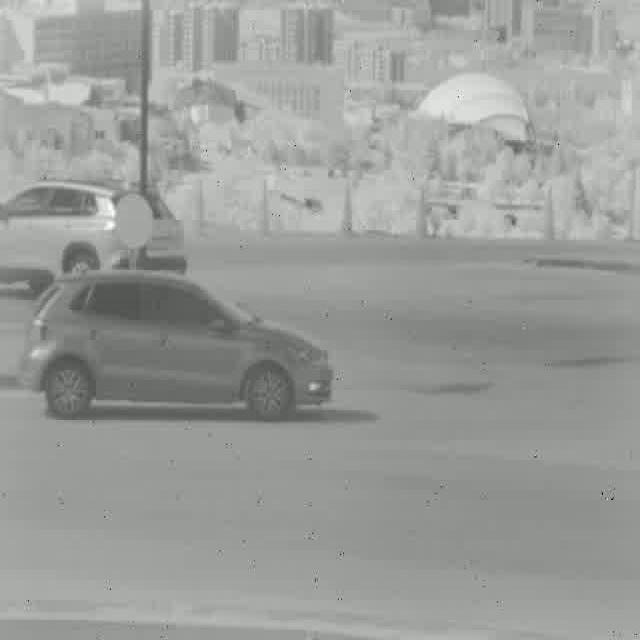Car: (20, 272, 334, 420), (0, 184, 185, 290)
